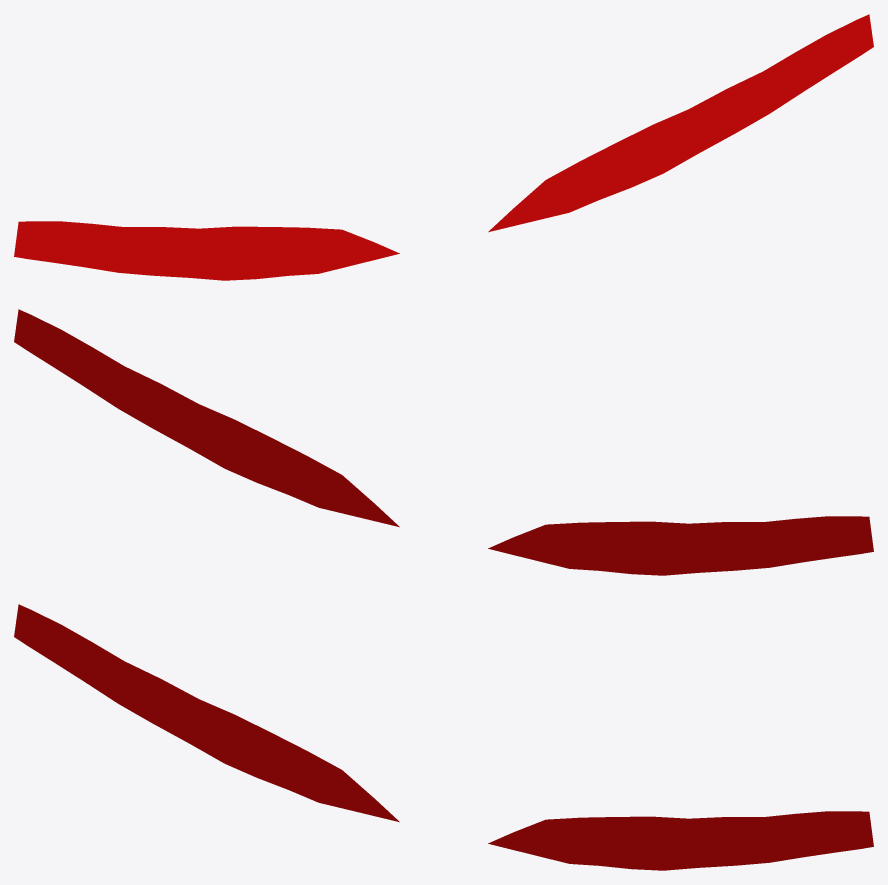
Rendered from frame61.fbx.
3 renders of one model, top to bottom at view 1: azimuth 30°, elevation 25°; view 2: azimuth 150°, elevation 25°; view 3: azimuth 330°, elevation 25°, orthographic.
Parts seen in each view (by area): view 1: MaterialLayer; view 2: MaterialLayer; view 3: MaterialLayer.
Part boxes in pixels (left/top/right/bottom): MaterialLayer: left=14, top=14, right=873, bottom=280; MaterialLayer: left=14, top=309, right=873, bottom=575; MaterialLayer: left=14, top=604, right=873, bottom=870.
Bounding box in the file's own units: 1253 × 174 × 0.
